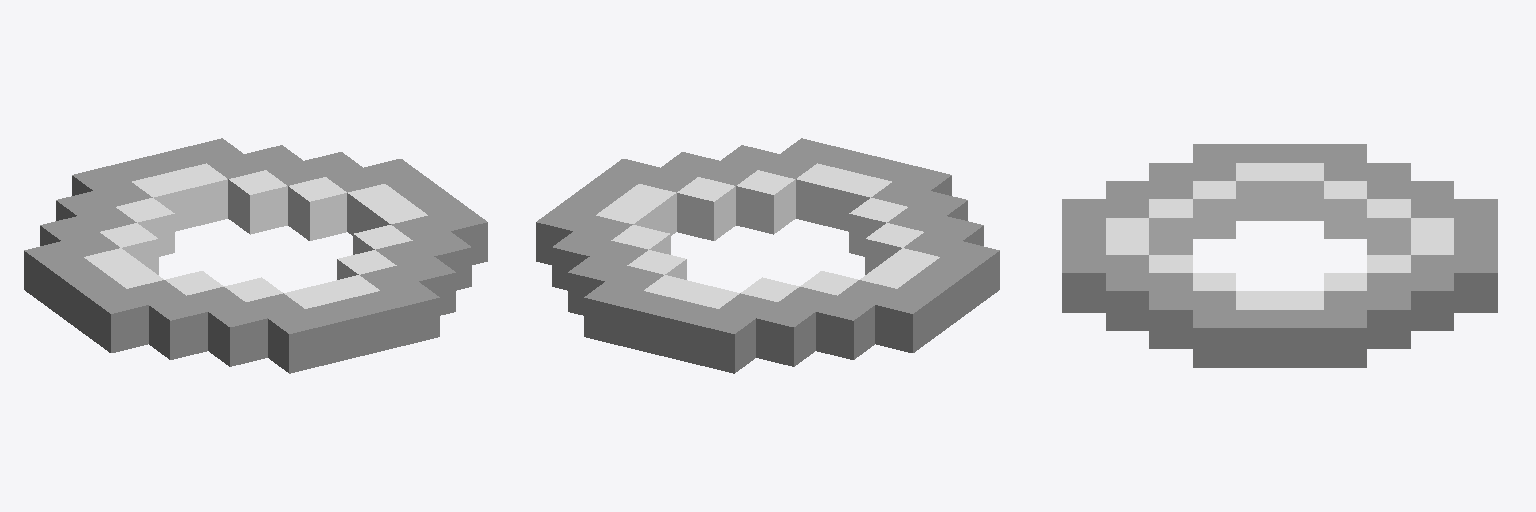
The picture shows the model from 3 angles: view 1: azimuth 30°, elevation 25°; view 2: azimuth 150°, elevation 25°; view 3: azimuth 270°, elevation 25°; orthographic projection.
Parts seen in each view (by area): view 1: object 1; view 2: object 1; view 3: object 1.
Boxes of the visible parts, x1=… form: object 1: x1=24, y1=138, x2=487, y2=373; object 1: x1=536, y1=138, x2=999, y2=373; object 1: x1=1062, y1=144, x2=1497, y2=367.
Size of the model in its own units: 1 by 0.1 by 1.
Materials: 1 (1 with a texture image).